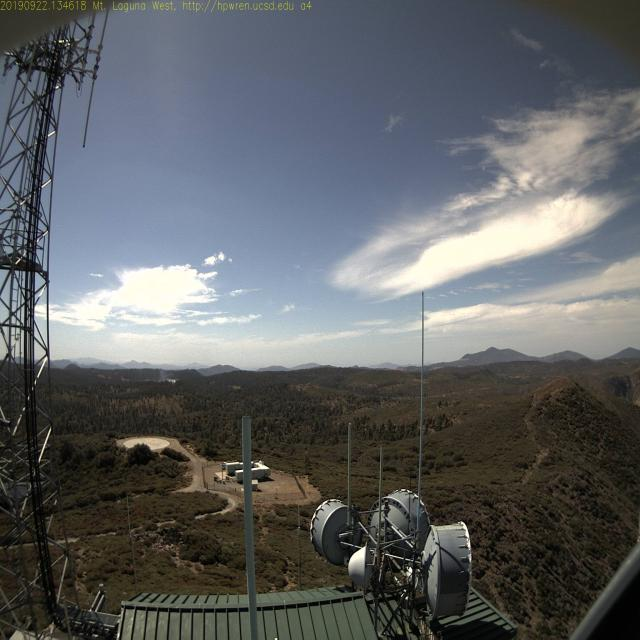smoke: (146, 362, 182, 386)
